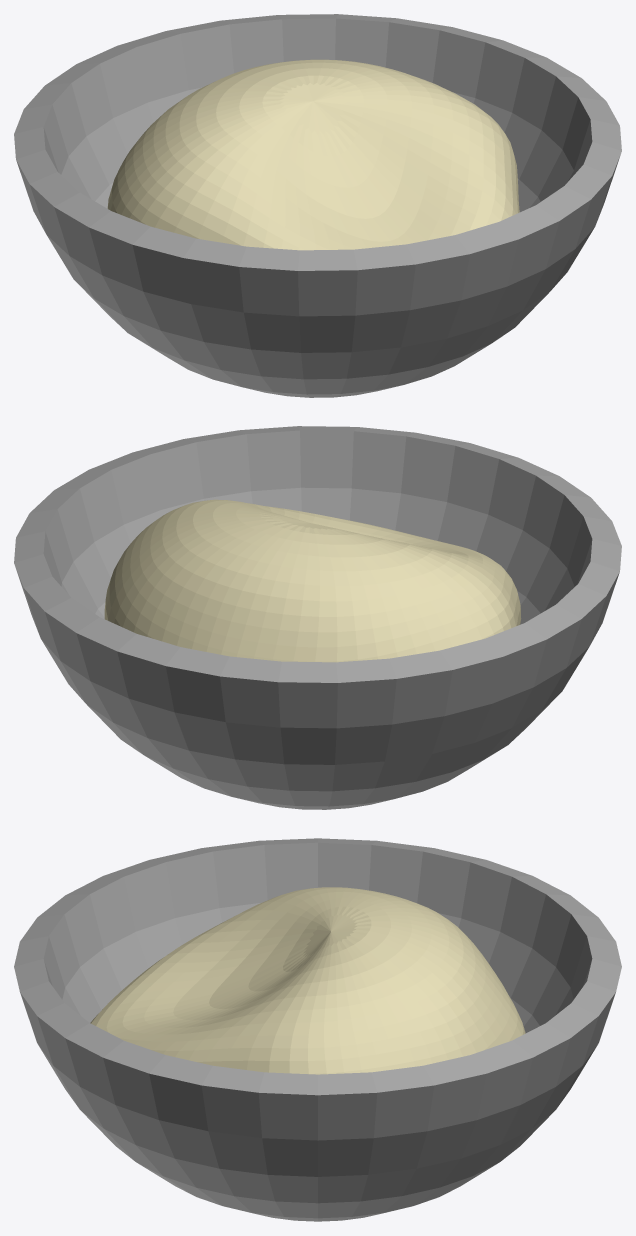
Rendered from DoughV0.2.fbx.
3 renders of one model, top to bottom at view 1: azimuth 30°, elevation 25°; view 2: azimuth 150°, elevation 25°; view 3: azimuth 270°, elevation 25°, orthographic.
Parts seen in each view (by area): view 1: Bowl, Dough; view 2: Bowl, Dough; view 3: Bowl, Dough.
Part boxes in pixels (bbox=[...]): Bowl: bbox=[14, 14, 621, 397]; Dough: bbox=[107, 59, 519, 250]; Bowl: bbox=[14, 426, 621, 809]; Dough: bbox=[104, 499, 521, 662]; Bowl: bbox=[14, 838, 621, 1221]; Dough: bbox=[90, 887, 525, 1074].
Size of the model in its own units: 164 by 80.67 by 164.
